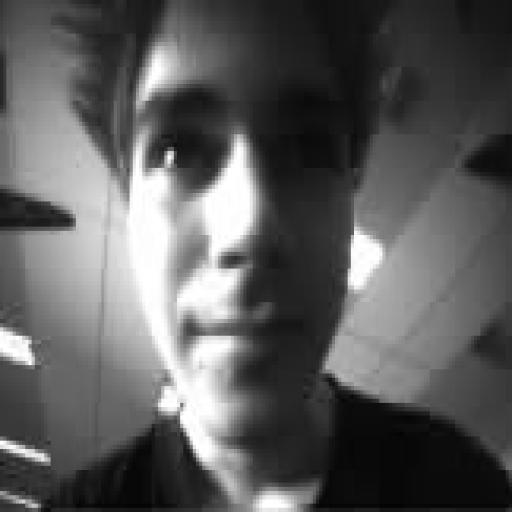human: (45, 0, 511, 511)
